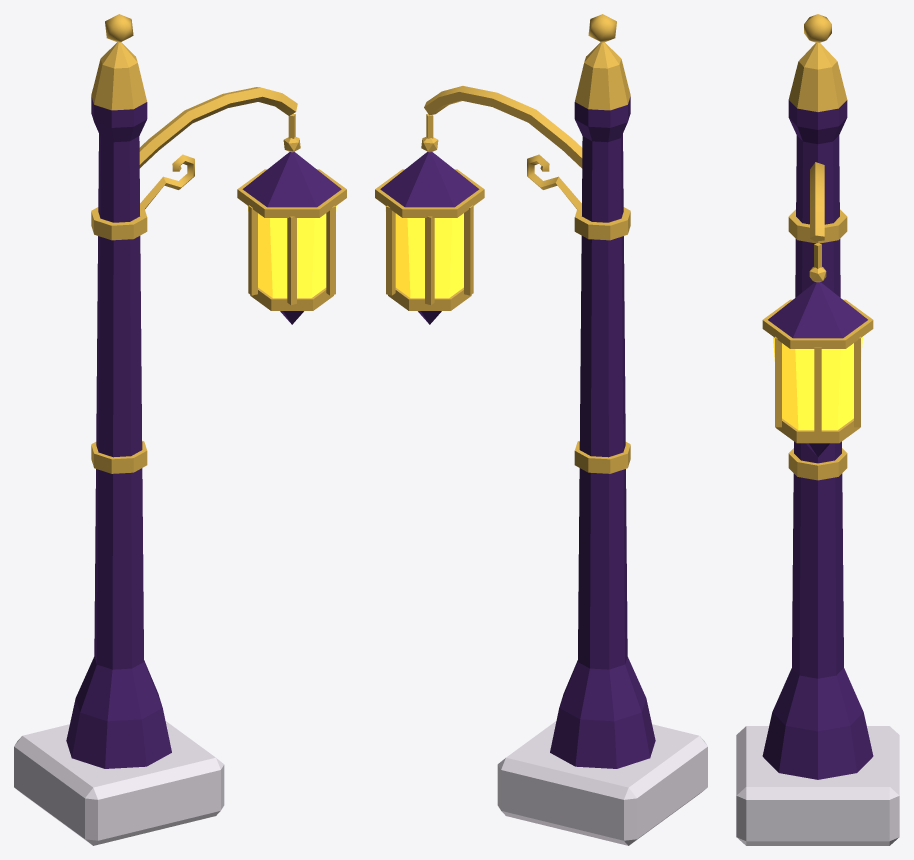
File: lantern_post.glb
3 renders of one model, left to right at view 1: azimuth 30°, elevation 25°; view 2: azimuth 150°, elevation 25°; view 3: azimuth 270°, elevation 25°, orthographic.
Parts seen in each view (by area): view 1: lantern_post; view 2: lantern_post; view 3: lantern_post.
Boxes of the visible parts, left/top/right/bottom form: lantern_post: left=14, top=14, right=346, bottom=845; lantern_post: left=375, top=14, right=707, bottom=845; lantern_post: left=736, top=14, right=899, bottom=845.
Bounding box in the file's own units: 1.02 × 2.71 × 0.5.
